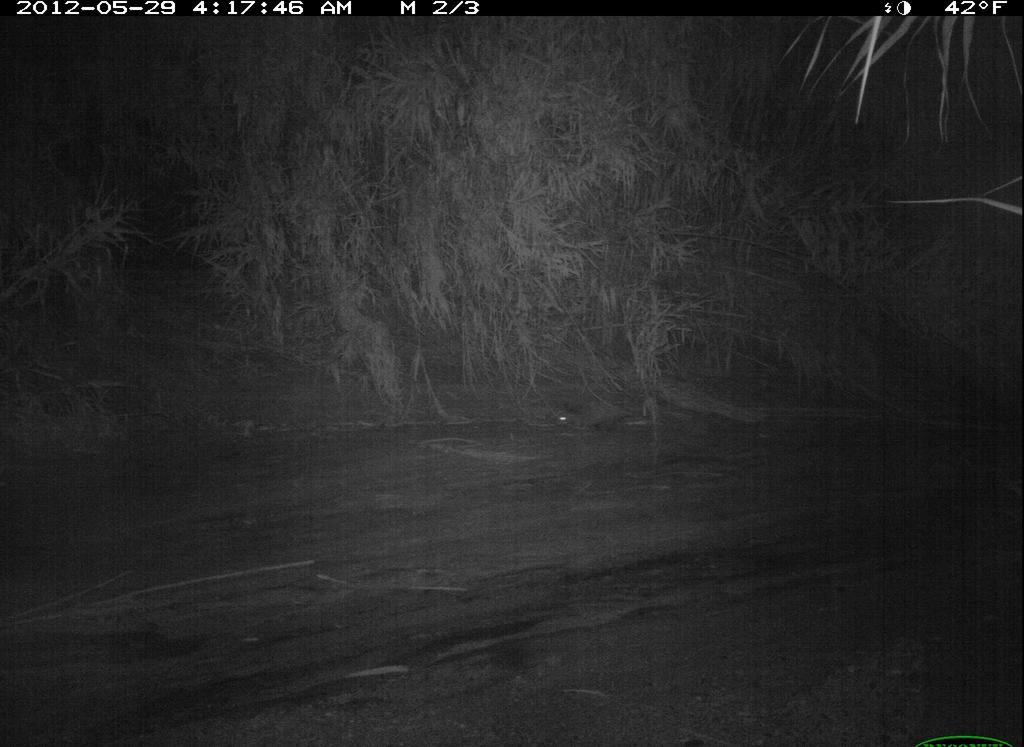opossum: (550, 393, 648, 450)
